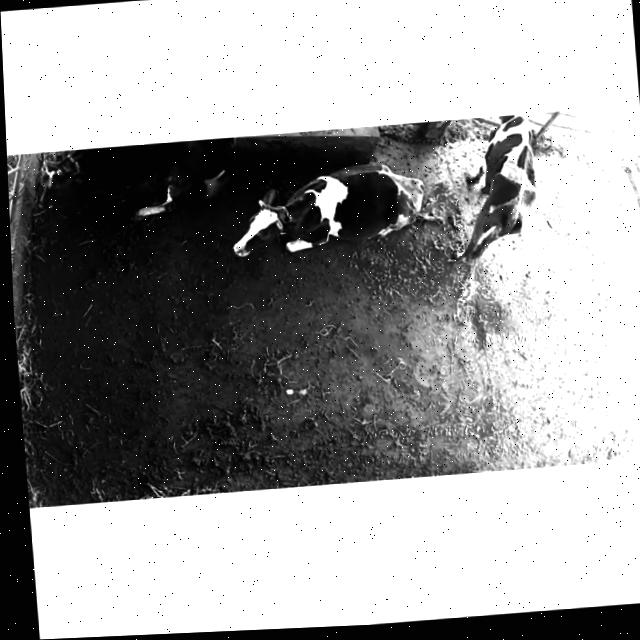lay: (222, 149, 456, 283)
